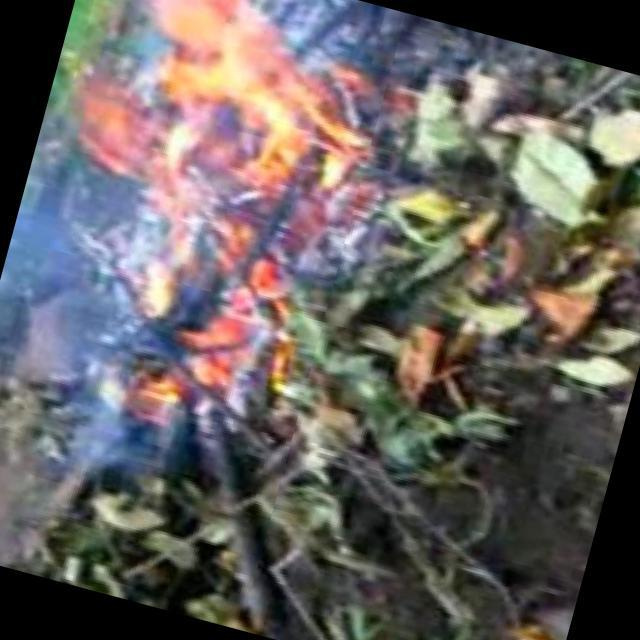Fire: (1, 1, 391, 452)
